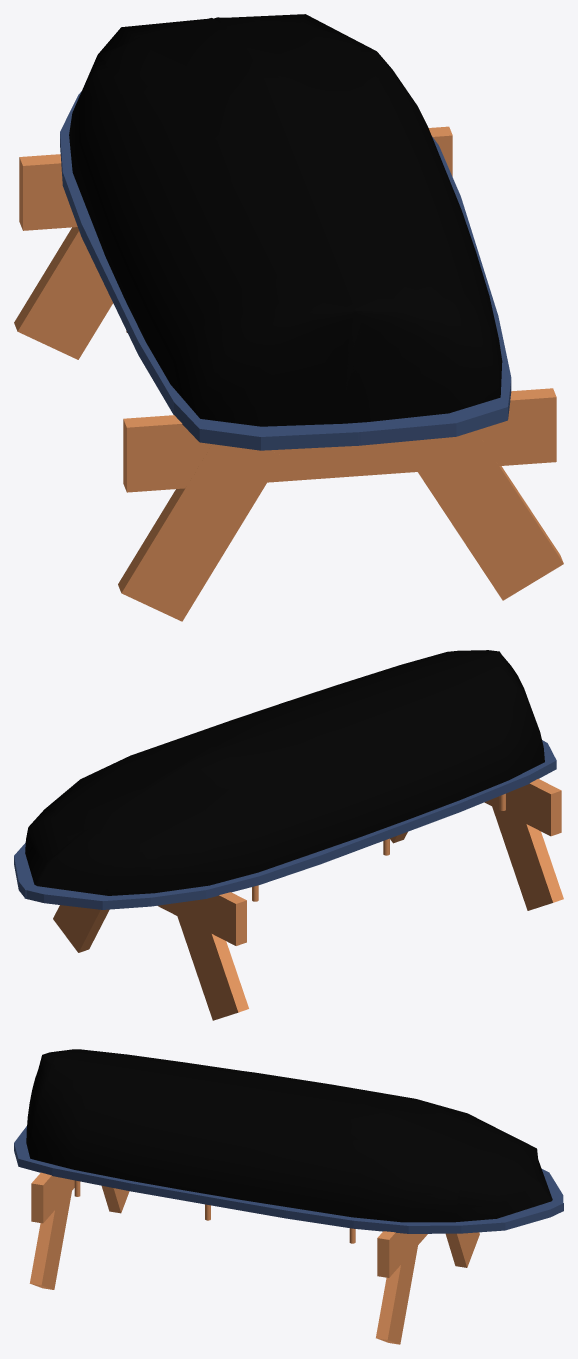
Rendered from Curragh and tressils.fbx.
3 renders of one model, top to bottom at view 1: azimuth 30°, elevation 25°; view 2: azimuth 150°, elevation 25°; view 3: azimuth 270°, elevation 25°, orthographic. The views are drawn at different scales.
Visible parts, largest first — view 1: Cylinder.008, Cube.009, Cube.002; view 2: Cylinder.008, Cube.002, Cube.009; view 3: Cylinder.008, Cube.002, Cube.009.
Part boxes in pixels (box(x1,y1,x2,y2)): Cylinder.008: box(60, 14, 511, 450); Cube.009: box(118, 388, 563, 621); Cube.002: box(14, 126, 452, 359); Cylinder.008: box(14, 650, 556, 909); Cube.002: box(53, 892, 248, 1020); Cube.009: box(390, 778, 563, 910); Cylinder.008: box(14, 1049, 563, 1243); Cube.002: box(376, 1231, 479, 1344); Cube.009: box(29, 1172, 129, 1289).
Bounding box in the file's own units: 98.33 × 54.49 × 142.
